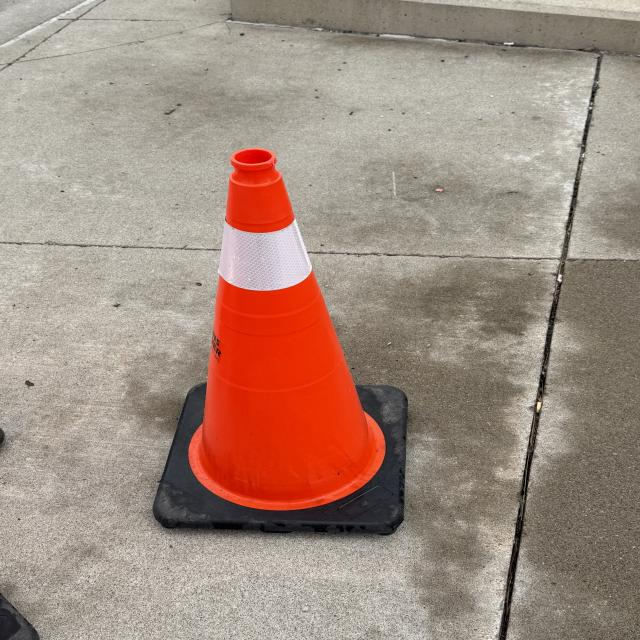Traffic Cone: (155, 149, 410, 536)
